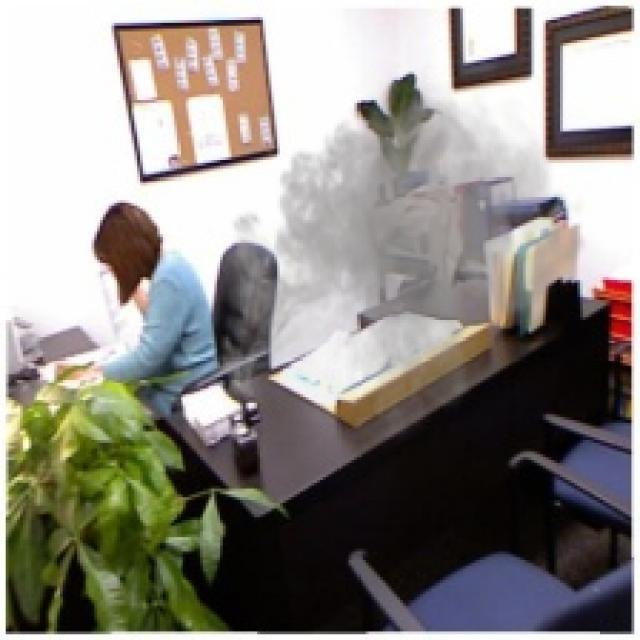Smoke: (208, 68, 588, 463)
